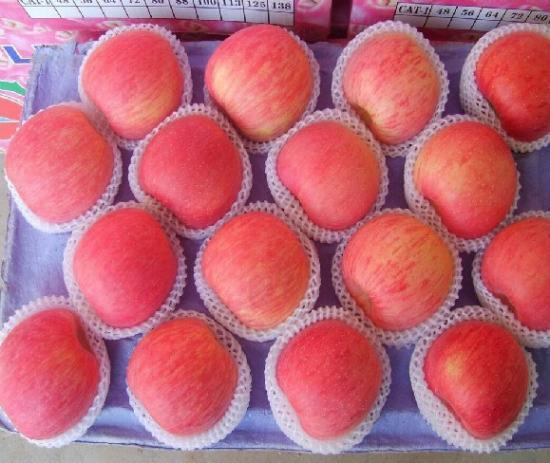apple: (1, 299, 108, 447), (272, 316, 390, 446), (417, 313, 529, 449), (337, 210, 455, 332), (201, 22, 318, 143), (336, 22, 447, 147), (126, 315, 239, 435), (4, 105, 116, 226), (70, 209, 179, 333), (408, 120, 520, 238), (135, 114, 245, 233), (275, 120, 388, 234), (202, 214, 310, 332), (83, 26, 191, 141), (471, 28, 549, 147), (477, 217, 550, 335)
